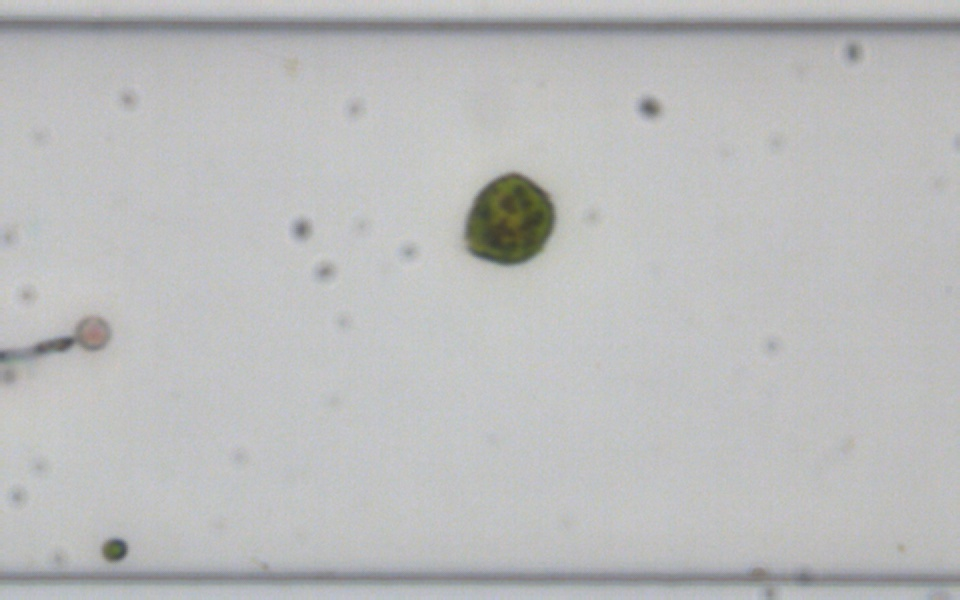Chlorella: (100, 535, 126, 561)
Haematococcus: (457, 166, 559, 270)
Porphyridium: (72, 313, 111, 352)
